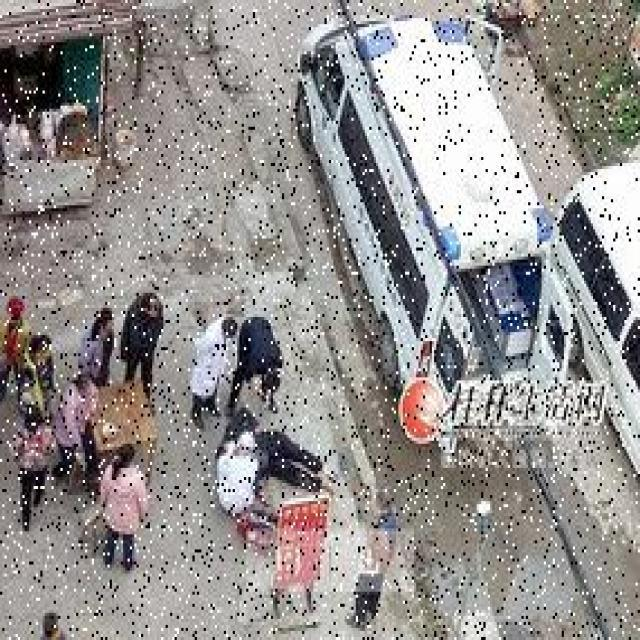fall: (215, 410, 338, 490)
